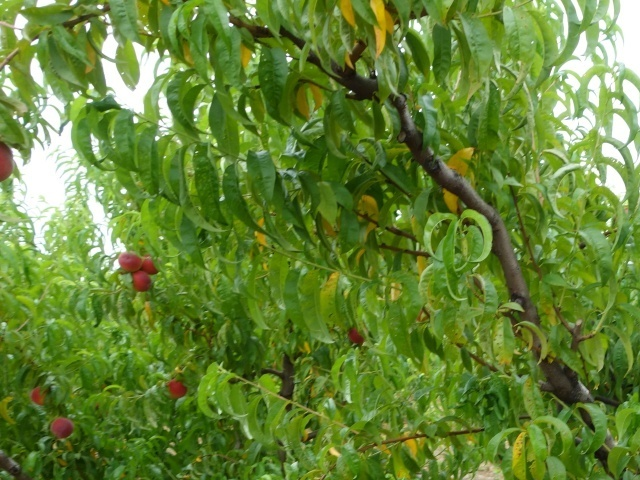peach: (114, 248, 146, 277), (1, 135, 18, 188), (126, 266, 154, 295), (46, 415, 75, 441), (342, 324, 369, 349), (164, 376, 189, 402), (135, 255, 161, 278), (28, 382, 51, 408)
